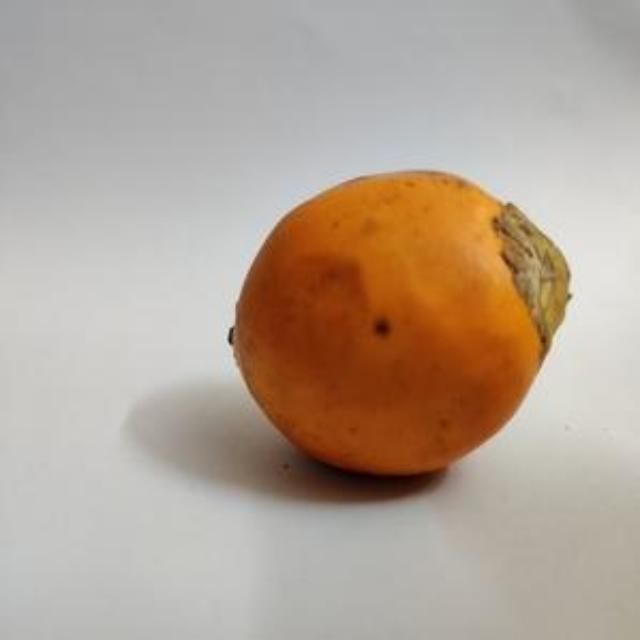good: (233, 171, 574, 479)
